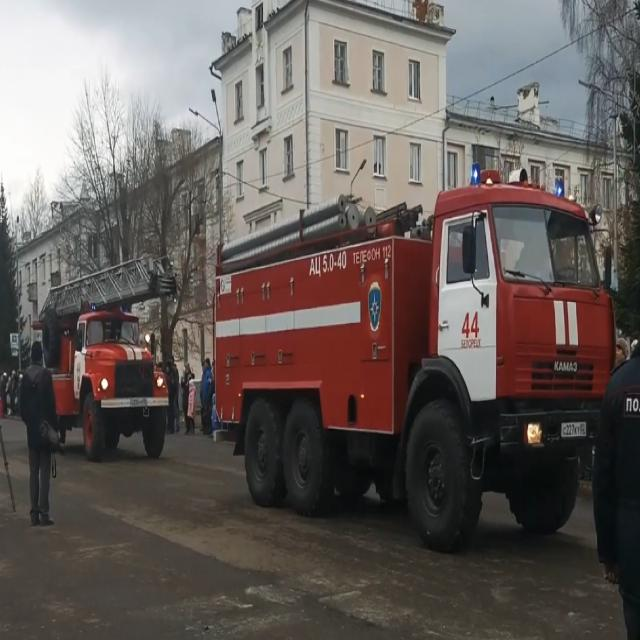fire fighting vehicle: (216, 162, 617, 557), (39, 254, 177, 464)
